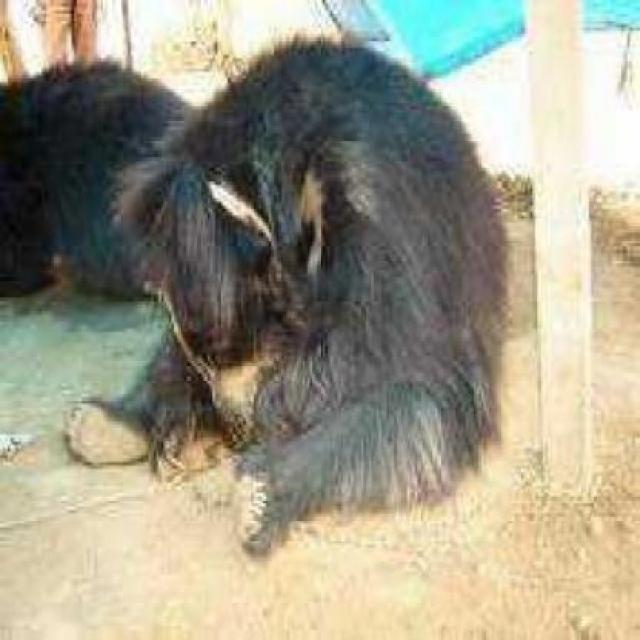Bear: (78, 34, 530, 558)
